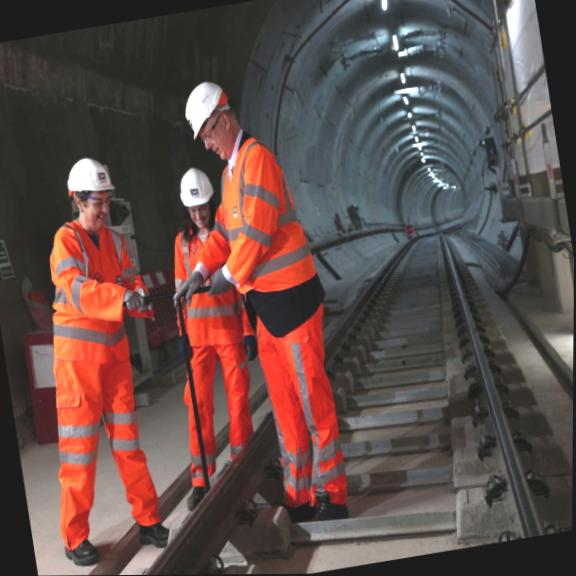safety_vest: (34, 213, 142, 412), (217, 147, 320, 316), (166, 225, 246, 366)
